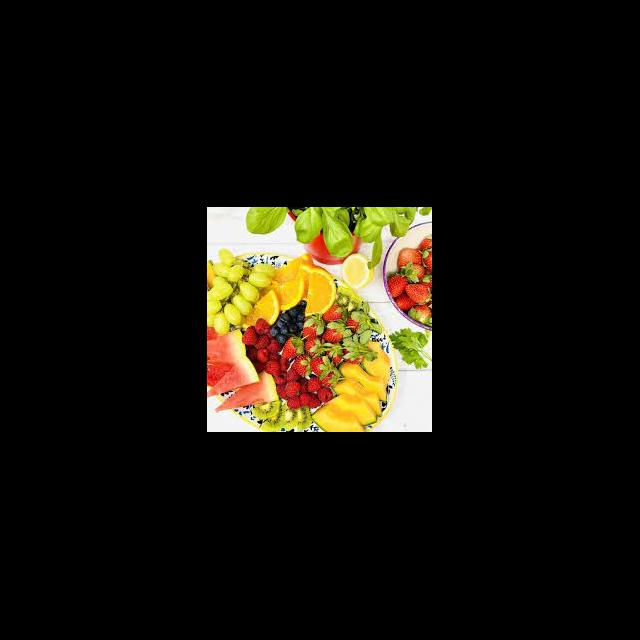grape: (208, 244, 270, 332)
